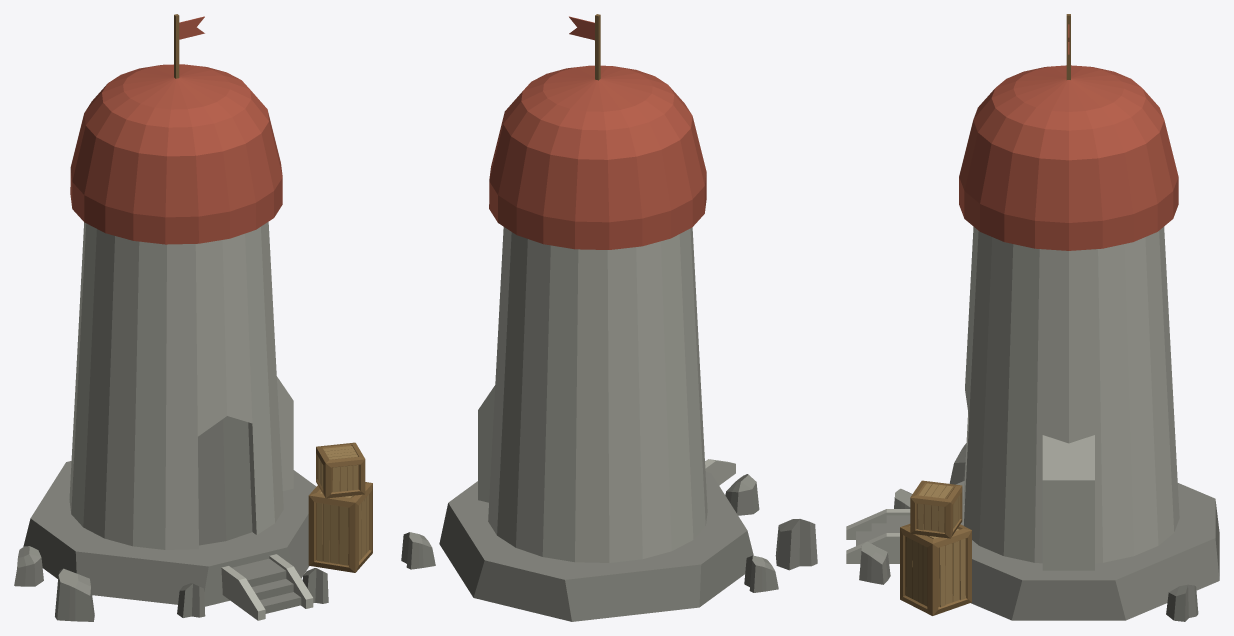
File: windmill-base.glb
The picture shows the model from 3 angles, left to right: view 1: azimuth 30°, elevation 25°; view 2: azimuth 150°, elevation 25°; view 3: azimuth 270°, elevation 25°; orthographic projection. The views are drawn at different scales.
Visible parts, largest first — view 1: Windmill_SecondAge; view 2: Windmill_SecondAge; view 3: Windmill_SecondAge.
Part boxes in pixels (box(x1,y1,x2,y2)): Windmill_SecondAge: box(14, 14, 372, 621); Windmill_SecondAge: box(401, 14, 817, 621); Windmill_SecondAge: box(846, 14, 1219, 621).
Bounding box in the file's own units: 4.57 × 7.59 × 4.71.
